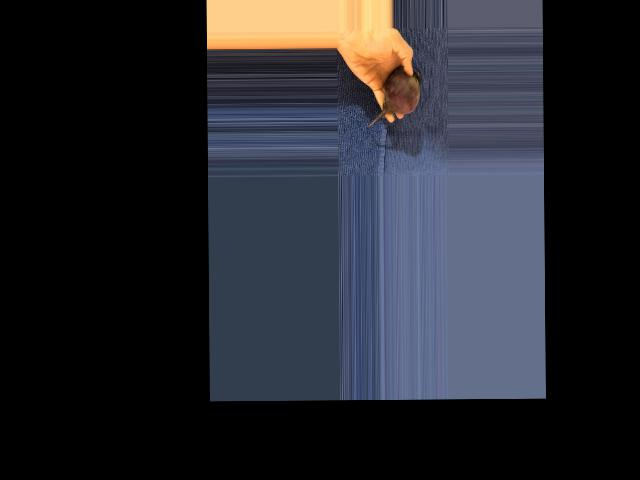beet: (366, 66, 422, 127)
